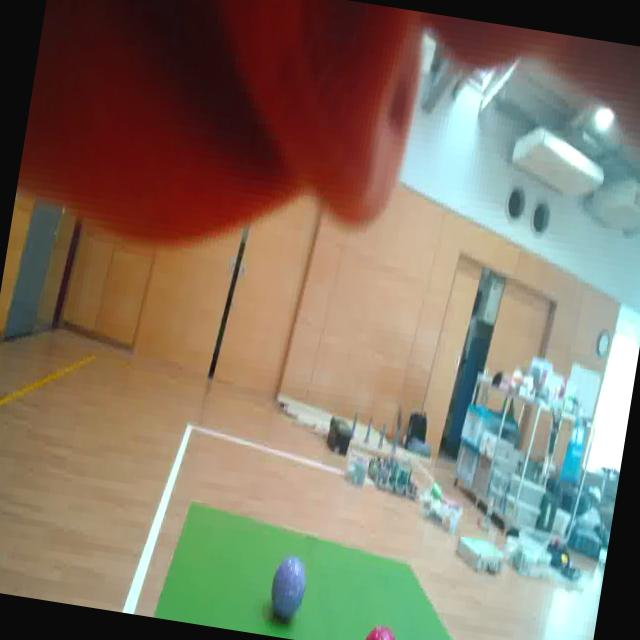purple_ball: (264, 554, 318, 626)
red_ball: (361, 617, 405, 640)
